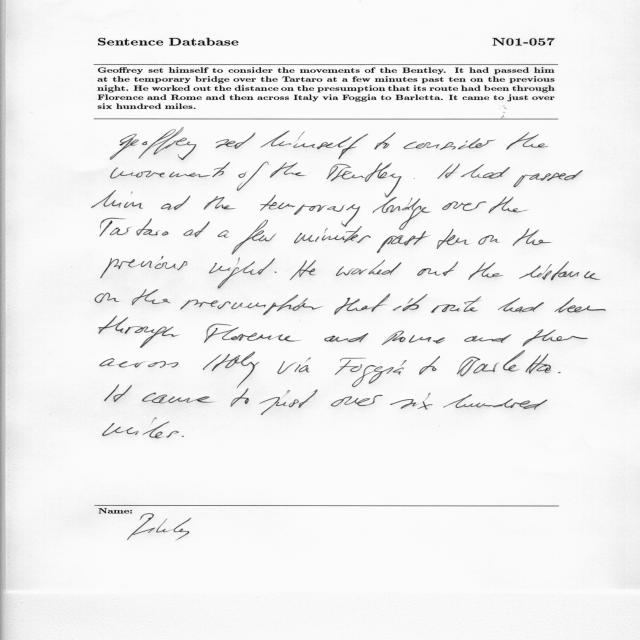word: (260, 195, 360, 227), (261, 131, 368, 160), (180, 294, 323, 315), (111, 127, 197, 160), (326, 163, 402, 198), (99, 316, 179, 348), (457, 351, 551, 377), (203, 352, 260, 389), (335, 358, 407, 387), (209, 258, 275, 289), (373, 197, 431, 230), (111, 162, 230, 178), (101, 256, 187, 278), (204, 324, 300, 343), (443, 394, 548, 410), (232, 220, 277, 255), (294, 223, 371, 243), (102, 418, 179, 438), (519, 262, 600, 281), (259, 389, 318, 415), (100, 218, 168, 237), (334, 293, 390, 315), (513, 170, 583, 187), (377, 231, 428, 253), (523, 330, 588, 347), (404, 138, 496, 150), (336, 260, 402, 276), (237, 162, 269, 191), (92, 191, 143, 209), (381, 331, 445, 345), (431, 296, 481, 313), (554, 297, 606, 313), (100, 358, 178, 368), (506, 132, 549, 150), (390, 393, 433, 410), (142, 393, 214, 403), (513, 228, 552, 246), (498, 298, 544, 313), (461, 164, 510, 178), (216, 132, 256, 149), (489, 197, 528, 214), (437, 229, 469, 249), (468, 262, 503, 280), (132, 289, 171, 305), (417, 261, 458, 276), (393, 294, 428, 311), (277, 357, 311, 374), (270, 162, 306, 178), (331, 395, 383, 406), (290, 260, 316, 280), (105, 385, 132, 402), (204, 196, 236, 210), (442, 201, 486, 211), (161, 195, 190, 210), (183, 221, 210, 237), (465, 334, 512, 343), (419, 356, 440, 375), (325, 333, 369, 342), (374, 133, 396, 150), (437, 163, 460, 179), (230, 388, 249, 407), (95, 292, 119, 303), (478, 235, 499, 245), (218, 230, 229, 238), (275, 271, 277, 273), (558, 372, 560, 373), (182, 436, 184, 437), (414, 178, 415, 179)
